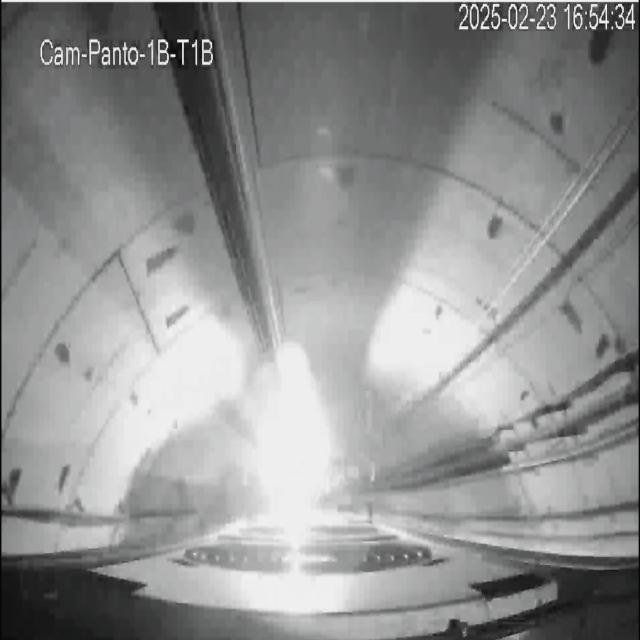Camera Stamp: (38, 34, 219, 70)
Date Stamp: (460, 3, 636, 33)
Sparks: (242, 337, 340, 541)
